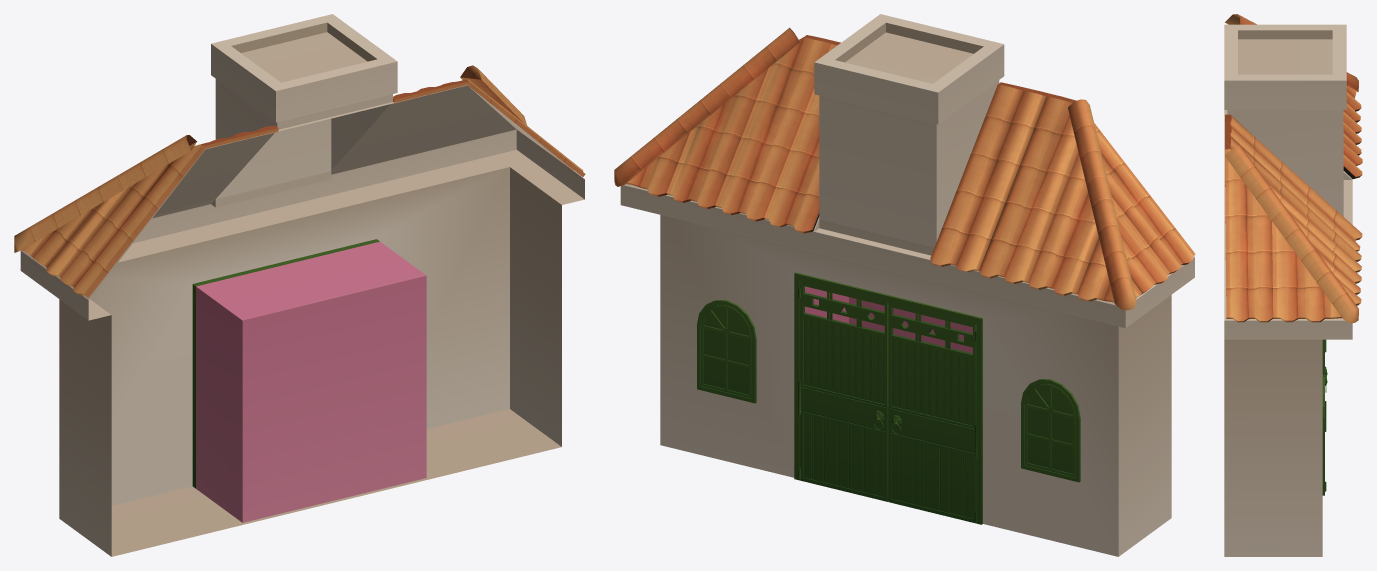
Rendered from squidgame_props_entrance2.fbx.
3 views of the same model, side by side, from view 1: azimuth 30°, elevation 25°; view 2: azimuth 150°, elevation 25°; view 3: azimuth 270°, elevation 25° (orthographic). The views are drawn at different scales.
Visible parts, largest first — view 1: squidgame_props_entrance2; view 2: squidgame_props_entrance2, squidgame_props_entrance2_L, squidgame_props_entrance2_R; view 3: squidgame_props_entrance2.
Part boxes in pixels (box(x1,y1,x2,y2)): squidgame_props_entrance2: box(14, 14, 585, 556); squidgame_props_entrance2: box(614, 14, 1195, 556); squidgame_props_entrance2_L: box(798, 281, 888, 501); squidgame_props_entrance2_R: box(888, 303, 977, 523); squidgame_props_entrance2: box(1224, 14, 1362, 556).
Size of the model in its own units: 5.55 by 4.42 by 1.38.
